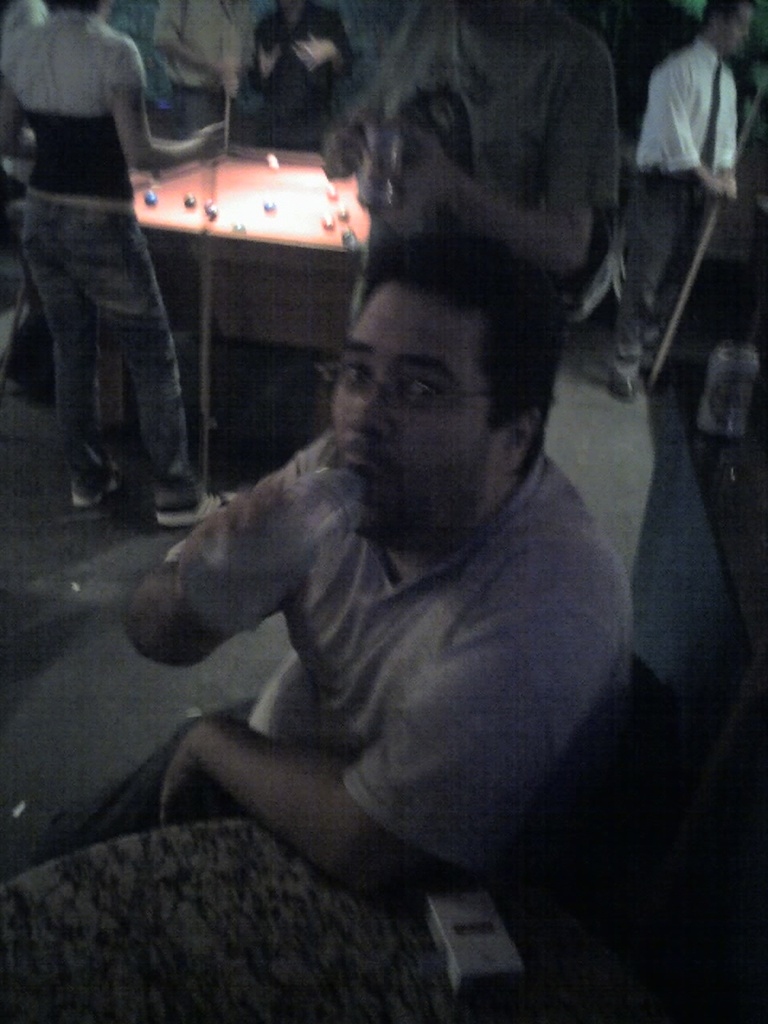Ball: (139, 188, 161, 210), (182, 194, 196, 213), (322, 214, 333, 234), (262, 202, 275, 214)
